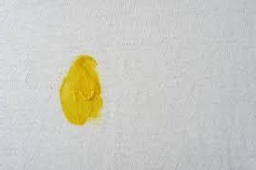mustard: (58, 53, 106, 128)
